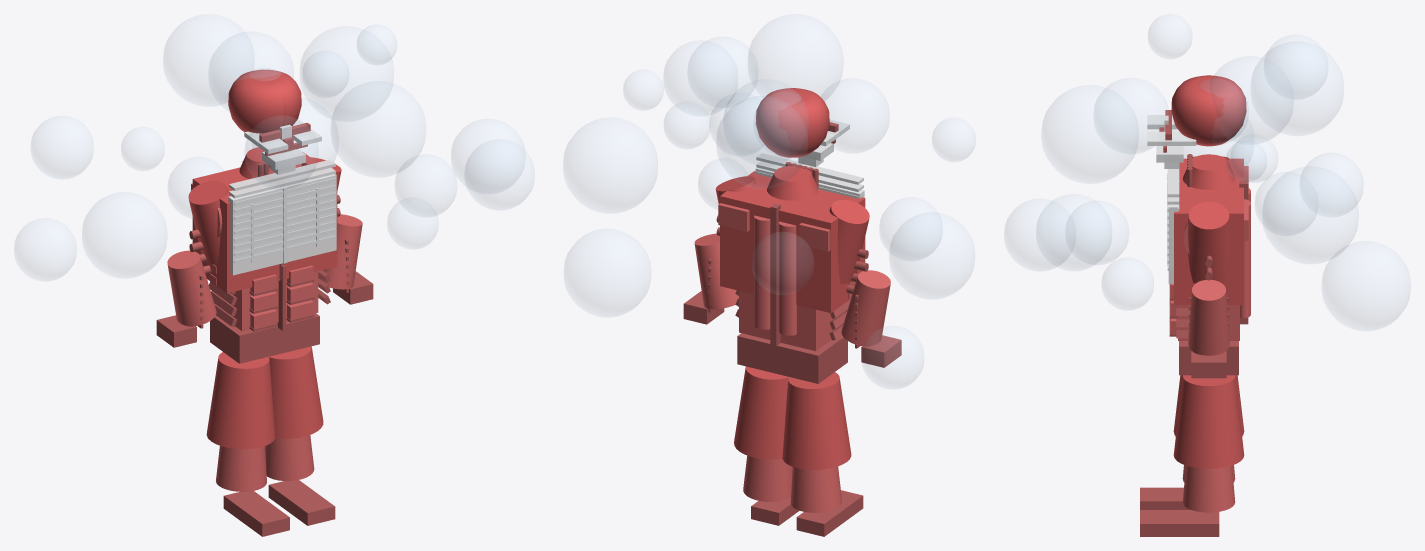
File: anime_colossal_100m_face_front.gltf
The picture shows the model from 3 angles, left to right: view 1: azimuth 30°, elevation 25°; view 2: azimuth 150°, elevation 25°; view 3: azimuth 270°, elevation 25°; orthographic projection. The views are drawn at different scales.
Bounding box in the file's own units: 98.6 × 114 × 89.87.
